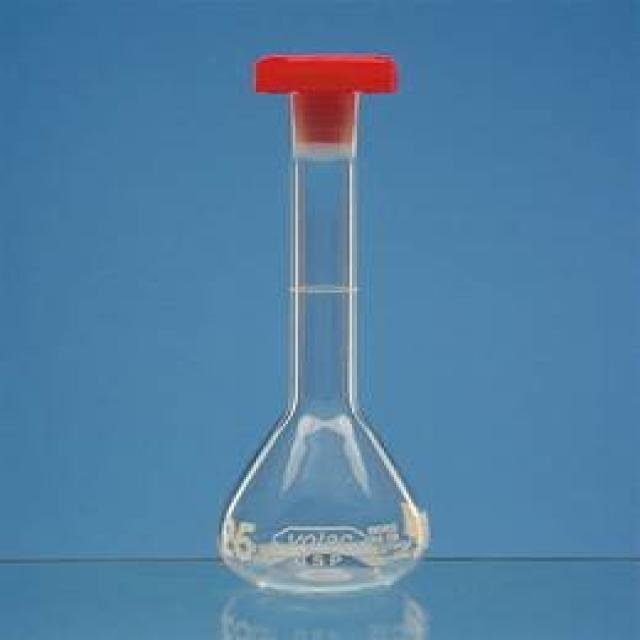Volumetric flask: (207, 48, 439, 594)
